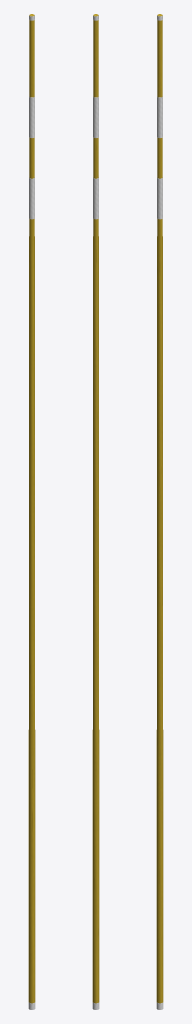
File: Vault_Pole.glb
The picture shows the model from 3 angles, left to right: view 1: azimuth 90°, elevation 25°; view 2: azimuth 150°, elevation 25°; view 3: azimuth 270°, elevation 25°; orthographic projection.
Visible parts, largest first — view 1: Fiberglass_Shaft, Tape_Grip_1, Tape_Grip_2; view 2: Fiberglass_Shaft, Tape_Grip_1, Tape_Grip_2; view 3: Fiberglass_Shaft, Tape_Grip_1, Tape_Grip_2.
Boxes of the visible parts, left/top/right/bottom form: Fiberglass_Shaft: left=28, top=14, right=35, bottom=1003; Tape_Grip_1: left=29, top=177, right=34, bottom=219; Tape_Grip_2: left=29, top=96, right=34, bottom=137; Fiberglass_Shaft: left=92, top=14, right=99, bottom=1003; Tape_Grip_1: left=93, top=177, right=98, bottom=219; Tape_Grip_2: left=93, top=96, right=98, bottom=137; Fiberglass_Shaft: left=156, top=14, right=163, bottom=1003; Tape_Grip_1: left=157, top=177, right=162, bottom=219; Tape_Grip_2: left=157, top=96, right=162, bottom=137.
Bounding box in the file's own units: 0.031 × 4.9 × 0.031.
Materials: 2 (2 with a texture image).
